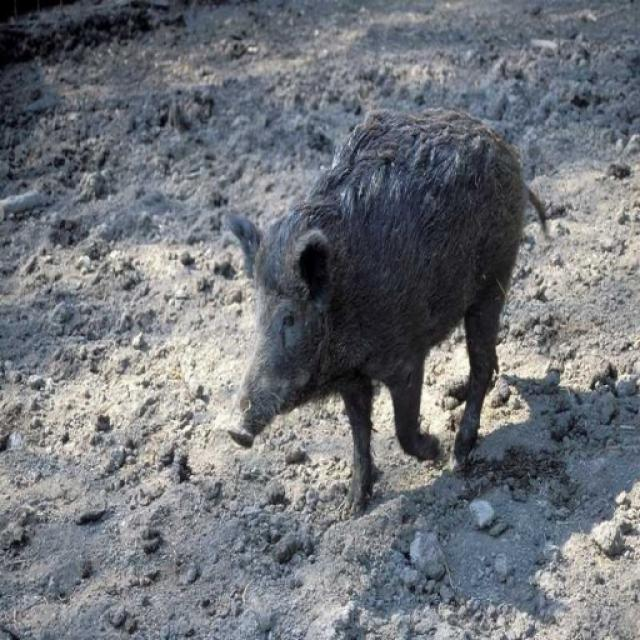pig: (204, 84, 525, 519)
